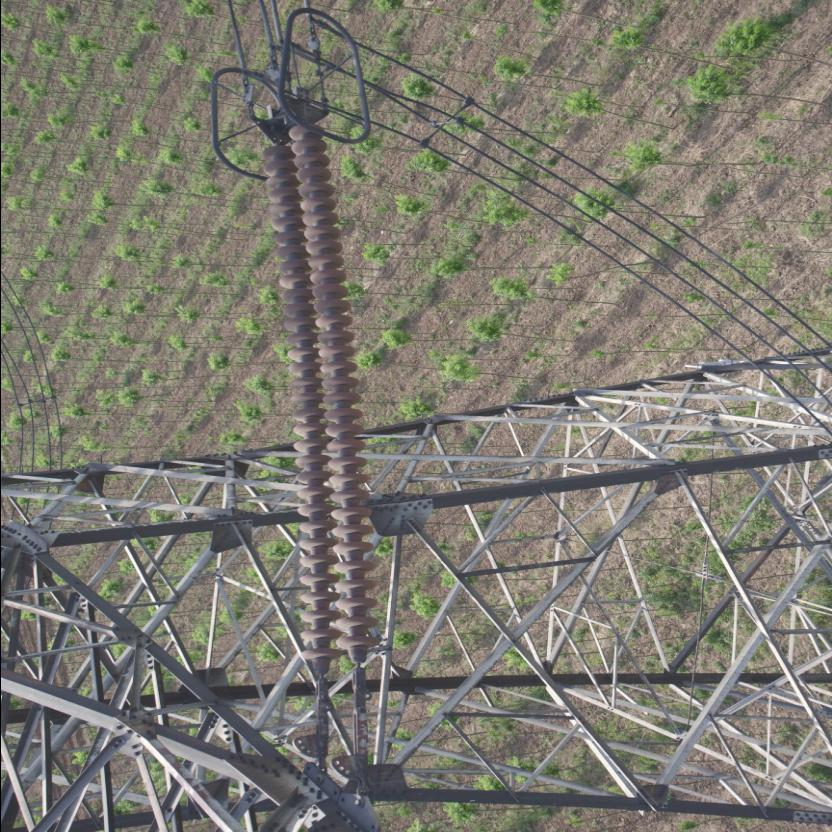insulator: (250, 116, 380, 718)
